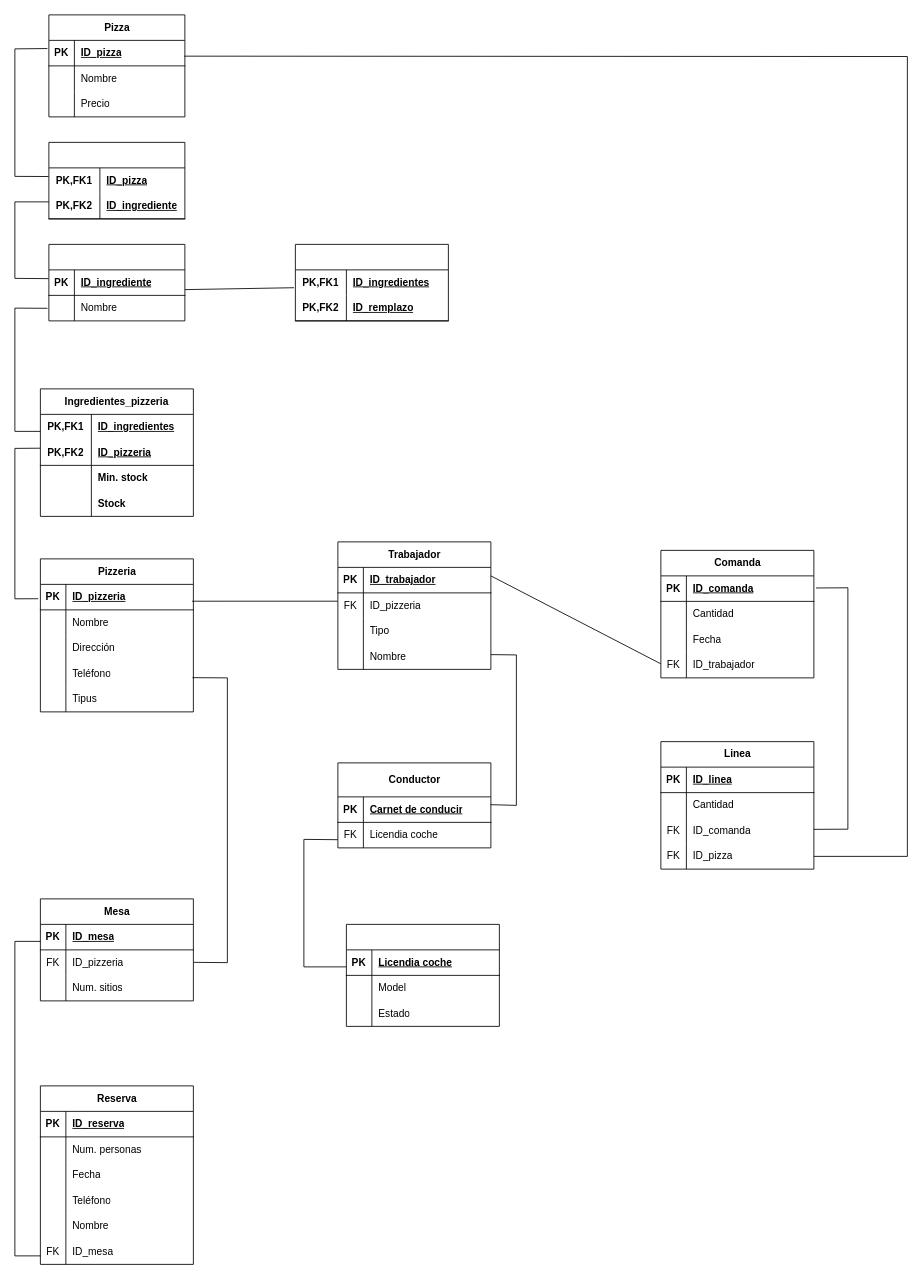
The diagram is 923 pixels wide and 1279 high, and some of its shapes have lost their labels. Each missing label, with the box of its shape:
Ingredientes: (48, 244, 185, 321)
Ingredientes-Remplazo: (295, 244, 448, 321)
Moto: (346, 924, 499, 1026)
Pizza_Ingredientes: (48, 142, 185, 219)
